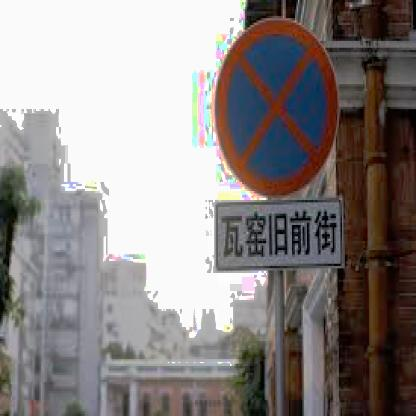No stopping: (212, 16, 340, 192)
